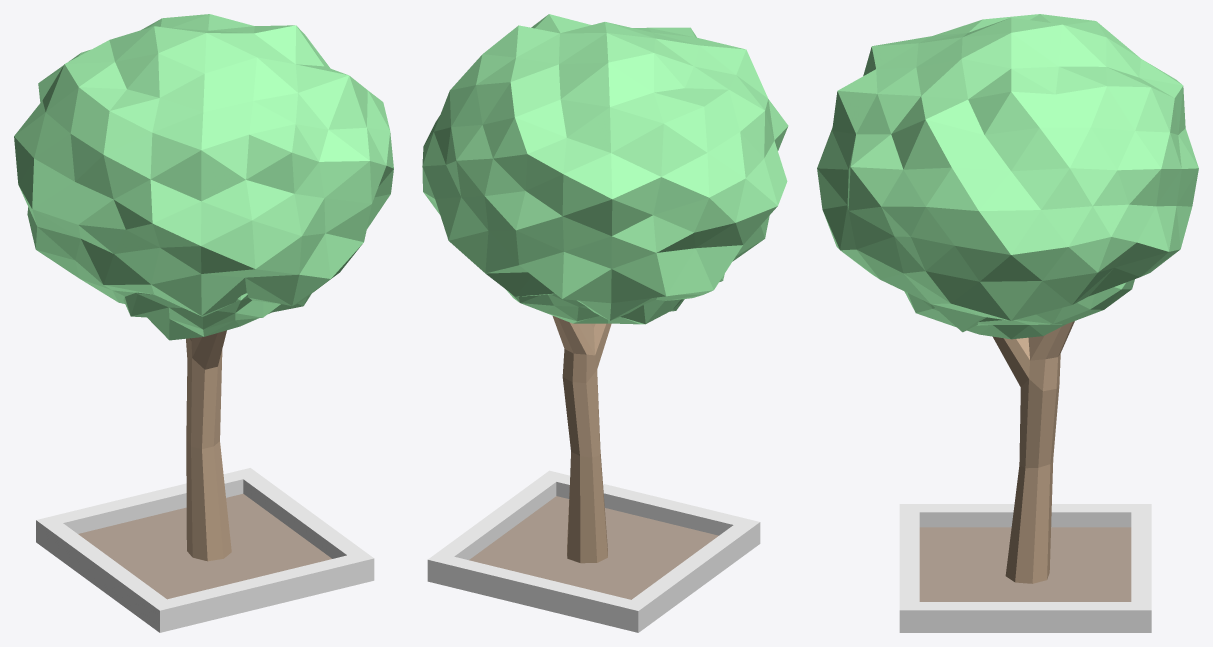
Rendered from TreePlanter.fbx.
3 views of the same model, side by side, from view 1: azimuth 30°, elevation 25°; view 2: azimuth 150°, elevation 25°; view 3: azimuth 270°, elevation 25° (orthographic). The views are drawn at different scales.
Visible parts, largest first — view 1: Sphere.034, Cube.010, Cube.011, Plane.076, Sphere.032; view 2: Sphere.034, Cube.010, Cube.011, Plane.076, Sphere.032; view 3: Sphere.034, Cube.010, Cube.011, Plane.076, Sphere.032.
Part boxes in pixels (x1,y1,x2,y2): Sphere.034: (14, 14, 393, 316); Cube.010: (36, 468, 374, 632); Cube.011: (78, 494, 331, 599); Plane.076: (186, 330, 231, 561); Sphere.032: (123, 292, 311, 340); Sphere.034: (422, 14, 788, 320); Cube.010: (427, 470, 760, 632); Cube.011: (469, 496, 718, 599); Plane.076: (552, 316, 611, 563); Sphere.032: (505, 274, 724, 324); Sphere.034: (817, 14, 1198, 332); Cube.010: (899, 504, 1151, 632); Cube.011: (919, 527, 1131, 601); Plane.076: (993, 321, 1074, 583); Sphere.032: (904, 279, 1134, 339).
Size of the model in its own units: 6.96 by 10.29 by 6.5.
